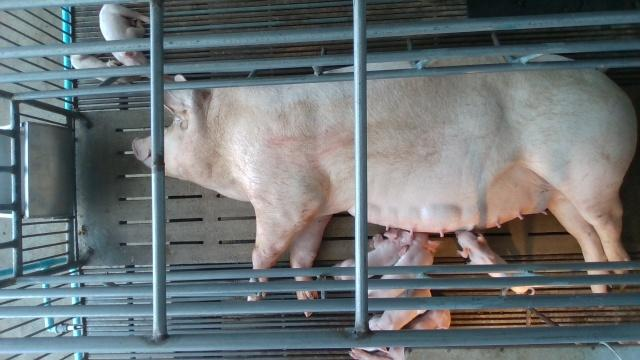piglet: (456, 230, 539, 295), (368, 233, 437, 299), (333, 229, 412, 281), (101, 4, 148, 65), (369, 289, 433, 330), (70, 52, 127, 85)
sow-sleep-lactate: (131, 54, 640, 294)
